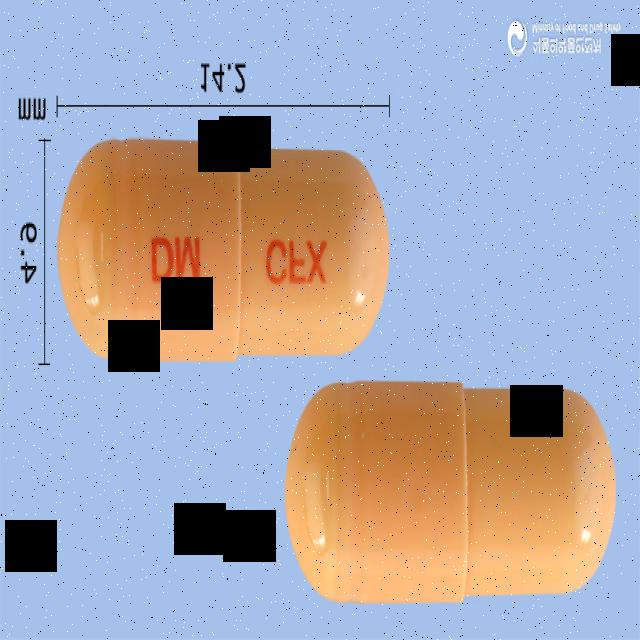Fixima: (286, 379, 620, 606), (57, 142, 390, 364)
